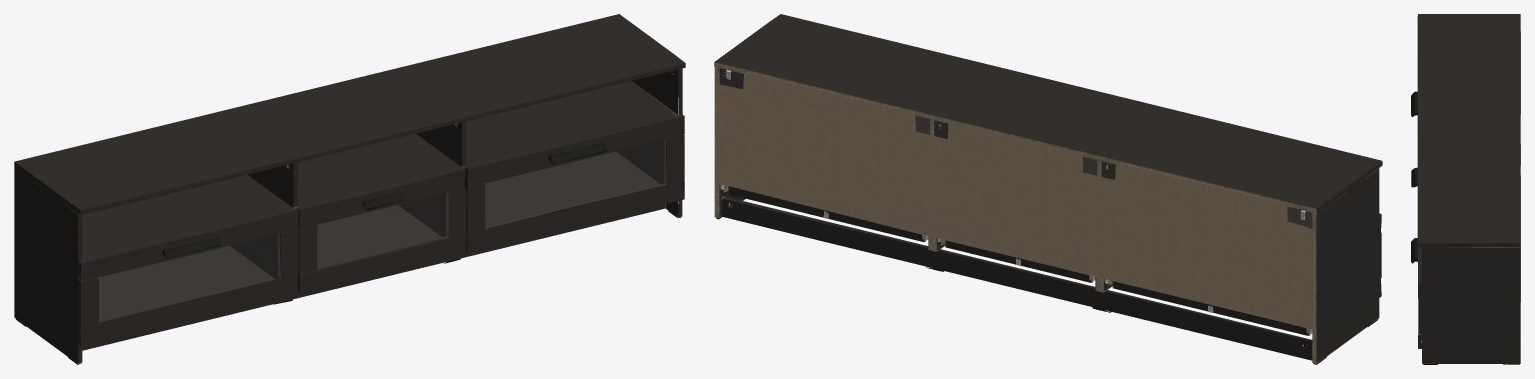
File: 22 - BRIMNES TV bench - black 216x41x54 cm.glb
The picture shows the model from 3 angles, left to right: view 1: azimuth 30°, elevation 25°; view 2: azimuth 150°, elevation 25°; view 3: azimuth 270°, elevation 25°; orthographic projection. The views are drawn at different scales.
Visible parts, largest first — view 1: ASY_ART_60593089_S01_NV01; view 2: ASY_ART_60593089_S01_NV01; view 3: ASY_ART_60593089_S01_NV01.
Boxes of the visible parts, x1=… form: ASY_ART_60593089_S01_NV01: x1=14, y1=14, x2=685, y2=364; ASY_ART_60593089_S01_NV01: x1=714, y1=14, x2=1382, y2=364; ASY_ART_60593089_S01_NV01: x1=1411, y1=14, x2=1520, y2=364.
Size of the model in its own units: 2.16 by 0.5381 by 0.4385.
2 materials, 2 textured.
